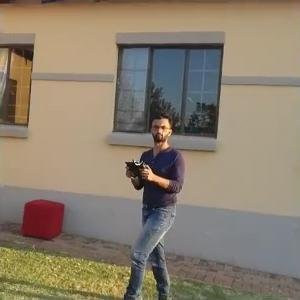follow: (112, 109, 188, 298)
